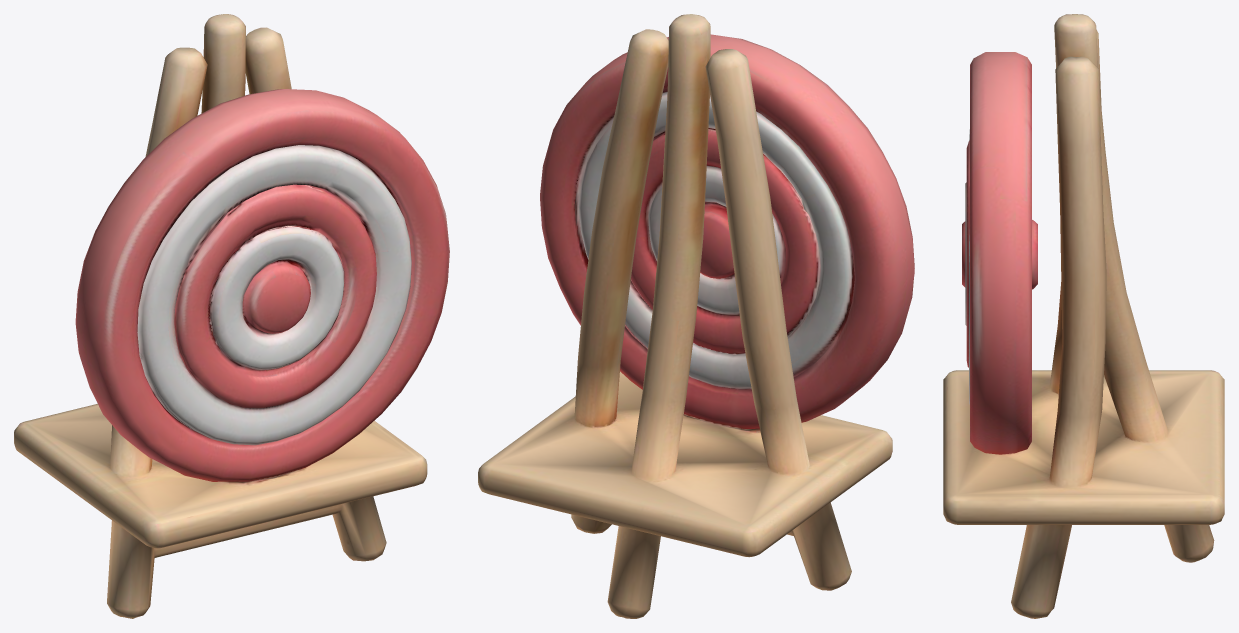
Rendered from target.glb.
3 views of the same model, side by side, from view 1: azimuth 30°, elevation 25°; view 2: azimuth 150°, elevation 25°; view 3: azimuth 270°, elevation 25° (orthographic). The views are drawn at different scales.
Parts seen in each view (by area): view 1: tripo_node_94fae2aa-78e9-41ae-8752-dd90337c2654; view 2: tripo_node_94fae2aa-78e9-41ae-8752-dd90337c2654; view 3: tripo_node_94fae2aa-78e9-41ae-8752-dd90337c2654.
Part boxes in pixels (x1=…): tripo_node_94fae2aa-78e9-41ae-8752-dd90337c2654: x1=14, y1=14, x2=449, y2=618; tripo_node_94fae2aa-78e9-41ae-8752-dd90337c2654: x1=478, y1=14, x2=914, y2=618; tripo_node_94fae2aa-78e9-41ae-8752-dd90337c2654: x1=943, y1=14, x2=1224, y2=618.
Size of the model in its own units: 0.6775 by 0.9977 by 0.4705.
1 material, 1 textured.
